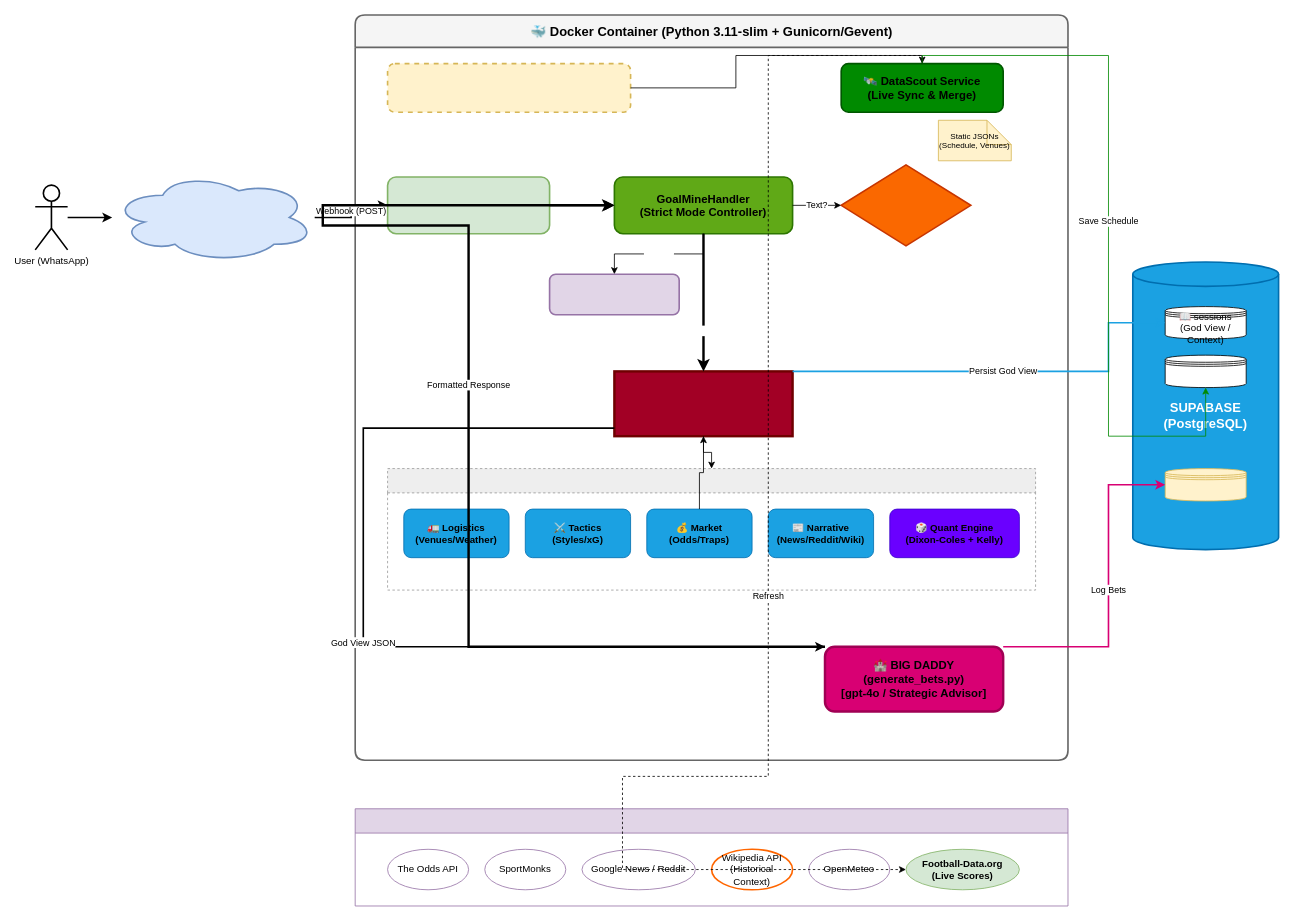
The diagram is 1293 pixels wide and 920 high, and some of its shapes have lost their labels. The shapes that lost their labels are listed below. From the top down, each one's box as (x1, y1, x2, y2) in pixels, then its label:
(386, 62, 631, 113): ⏱️ APScheduler (Background) Morning Briefs | Kickoff Alerts | Market Monitor
(111, 172, 315, 262): Meta / WhatsApp Cloud API
(386, 176, 550, 234): app.py (Flask Entry) Webhook / Signature Verify
(840, 164, 971, 246): Gatekeeper Agent (Intent Classifier) [gpt-4o-mini]
(548, 273, 680, 315): UI Manager (Button/List Formatter)
(1164, 354, 1246, 388): ⚙️ system_storage (Merged Schedule)
(613, 370, 793, 437): 🤖 ORCHESTRATOR (The Swarm Manager)
(1164, 468, 1246, 501): 📊 predictions (ROI Audit Log)
(387, 468, 1036, 590): The Agent Swarm (Parallel Async Execution)
(354, 808, 1068, 906): External Data Sources
